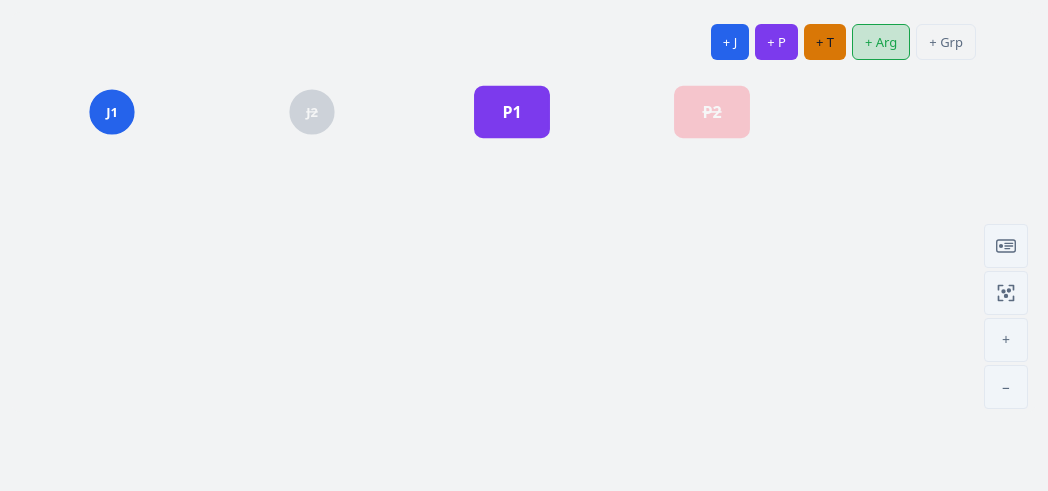
Test: ctrl+click relation building › offers an argument instead when only arguments are shown
This screenshot has width=1048, height=491.
Press the mouse on the icon "J1 P1 J2 P2" at coordinates (524, 212), box 12,12 -> 1036,412
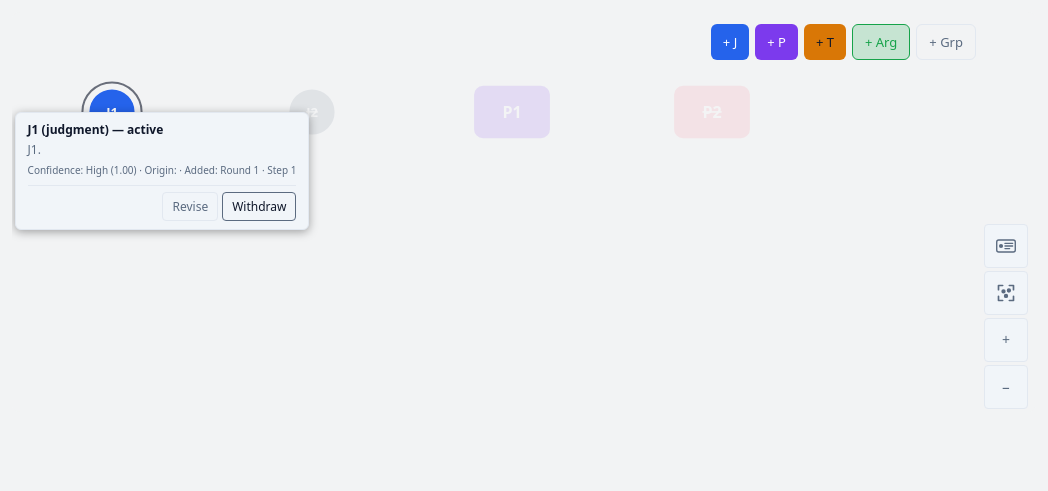
Press the mouse on the icon "J1 P1 J2 P2" at coordinates (524, 212), box 12,12 -> 1036,412
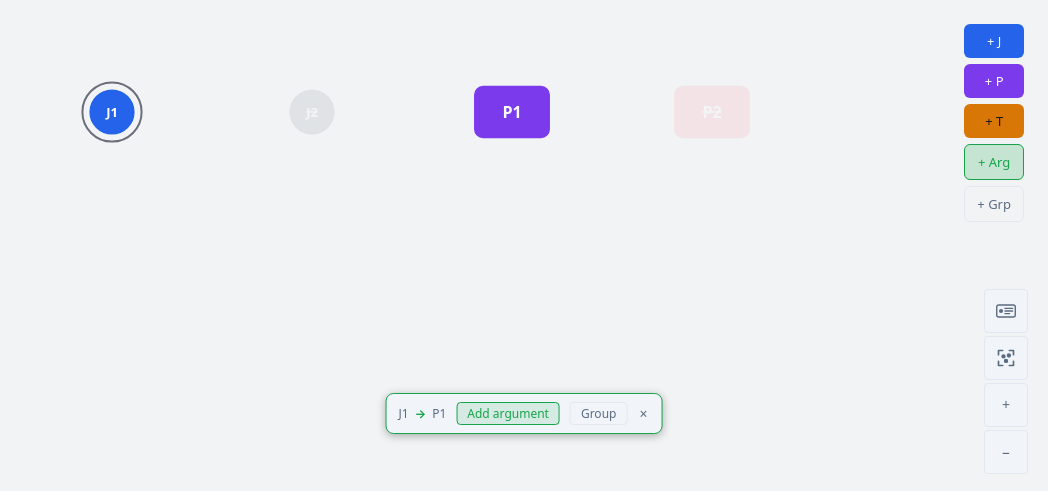
Expected: the button "Add argument" is shown, 456,402 -> 560,425
